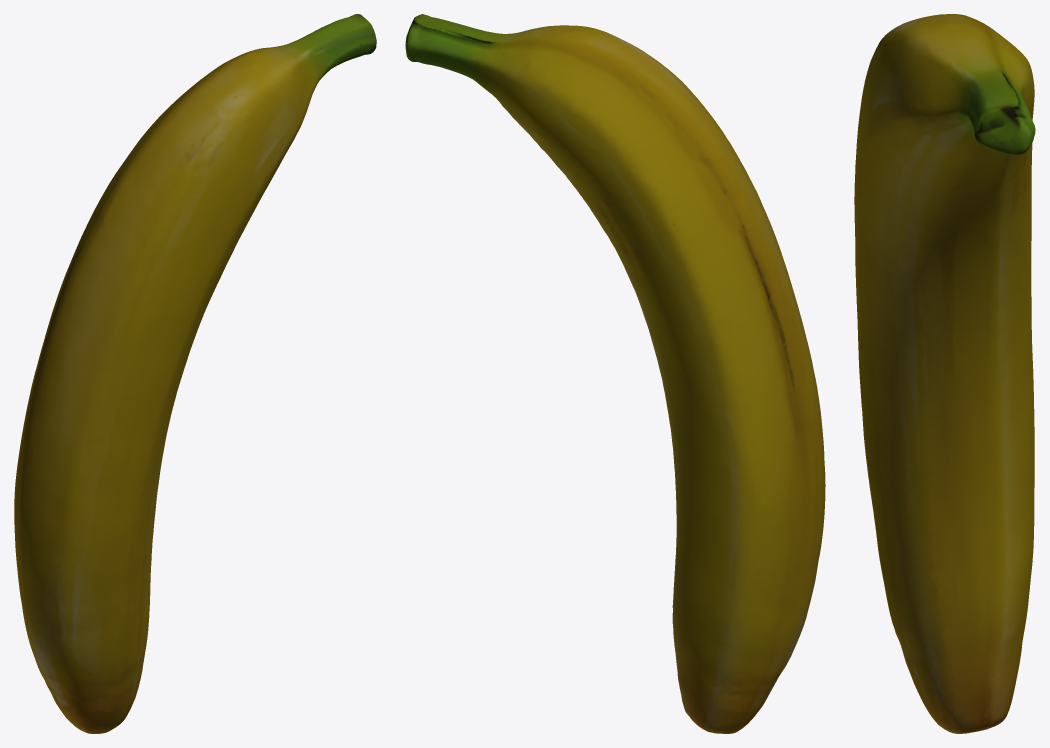
3 views of the same model, side by side, from view 1: azimuth 30°, elevation 25°; view 2: azimuth 150°, elevation 25°; view 3: azimuth 270°, elevation 25° (orthographic). The views are drawn at different scales.
Visible parts, largest first — view 1: textured.obj; view 2: textured.obj; view 3: textured.obj.
Part boxes in pixels (<box>): textured.obj: <box>14,14,376,733</box>; textured.obj: <box>405,14,825,733</box>; textured.obj: <box>854,14,1035,733</box>.
Size of the model in its own units: 0.1089 by 0.1784 by 0.0367.
Materials: 1 (1 with a texture image).
